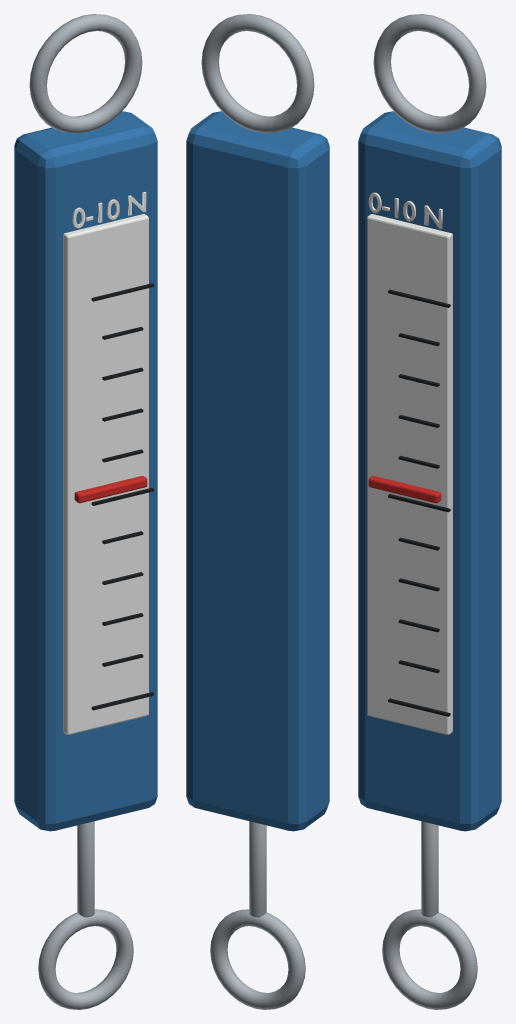
The model's file is Spring_Force_Meter.fbx.
3 views of the same model, side by side, from view 1: azimuth 30°, elevation 25°; view 2: azimuth 150°, elevation 25°; view 3: azimuth 330°, elevation 25° (orthographic).
Visible parts, largest first — view 1: ForceMeterBody, ScaleWindow, TopHook, BottomHook, BottomHookStem, ForceIndicator, ForceMeterLabel; view 2: ForceMeterBody, TopHook, BottomHook, BottomHookStem; view 3: ForceMeterBody, ScaleWindow, TopHook, BottomHook, BottomHookStem, ForceIndicator, ForceMeterLabel.
Part boxes in pixels (left/top/right/bottom): ForceMeterBody: left=14, top=111, right=157, bottom=831; ScaleWindow: left=63, top=214, right=148, bottom=734; TopHook: left=29, top=14, right=142, bottom=133; BottomHook: left=38, top=909, right=133, bottom=1009; BottomHookStem: left=77, top=821, right=94, bottom=917; ForceIndicator: left=74, top=476, right=147, bottom=503; ForceMeterLabel: left=72, top=192, right=146, bottom=228; ForceMeterBody: left=186, top=111, right=329, bottom=831; TopHook: left=201, top=14, right=314, bottom=133; BottomHook: left=210, top=909, right=305, bottom=1009; BottomHookStem: left=249, top=821, right=266, bottom=917; ForceMeterBody: left=358, top=111, right=501, bottom=831; ScaleWindow: left=367, top=214, right=452, bottom=734; TopHook: left=373, top=14, right=486, bottom=133; BottomHook: left=382, top=909, right=477, bottom=1009; BottomHookStem: left=421, top=821, right=438, bottom=917; ForceIndicator: left=368, top=476, right=441, bottom=503; ForceMeterLabel: left=368, top=192, right=442, bottom=228.
Size of the model in its own units: 0.055 by 0.437 by 0.036.
